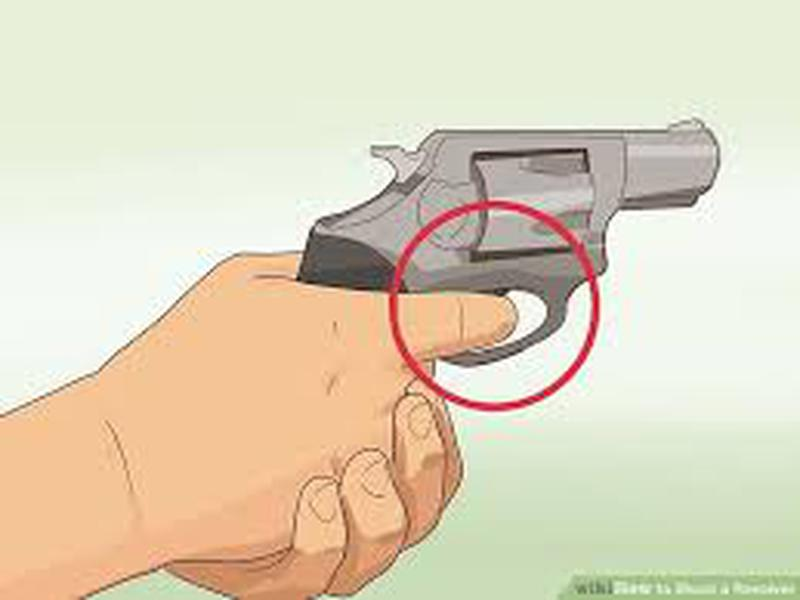gun: (89, 112, 753, 600)
